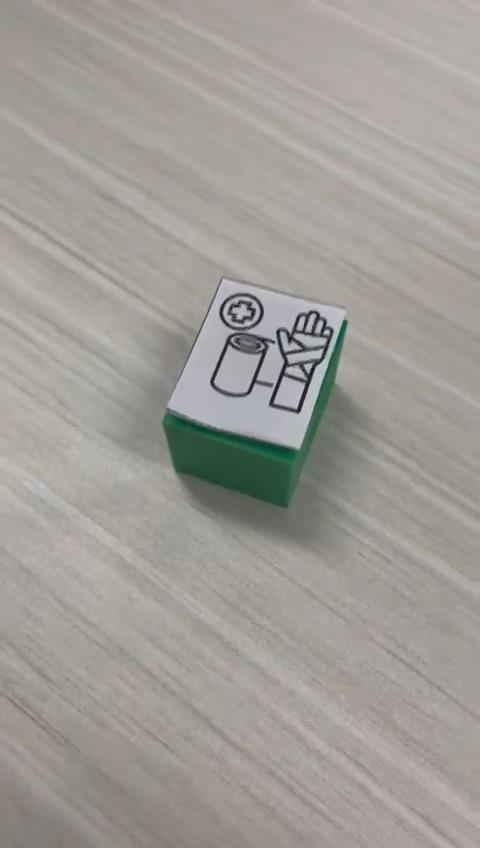Bandages: (163, 279, 348, 509)
